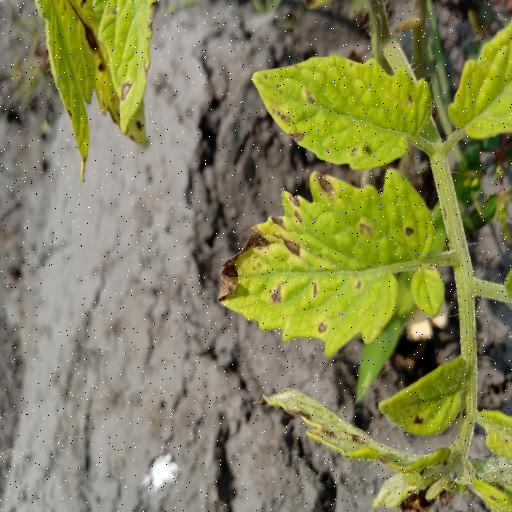Tomato_Brown_Spots: (217, 164, 447, 362), (249, 52, 433, 172)
